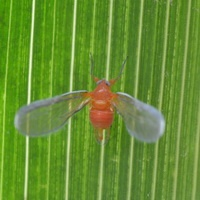insect: (14, 61, 164, 142)
